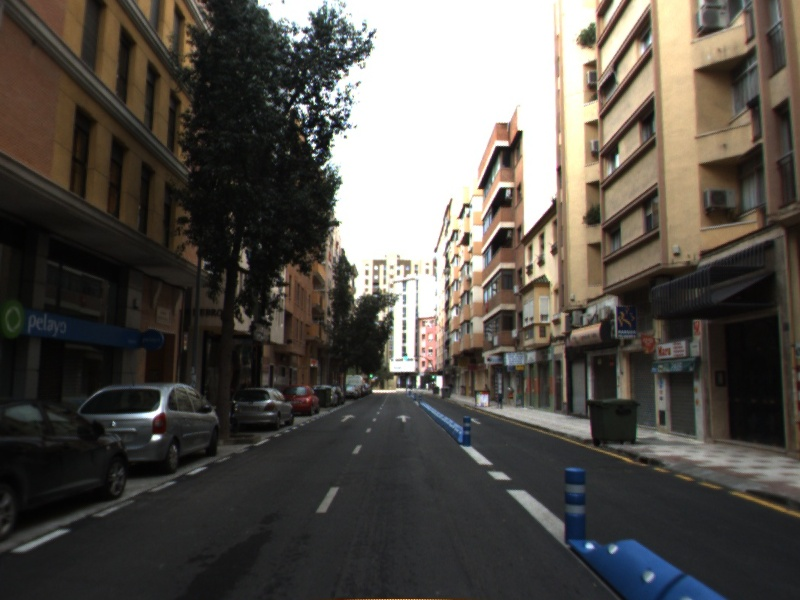STRAIGHT: (339, 413, 357, 423), (395, 413, 412, 423)
